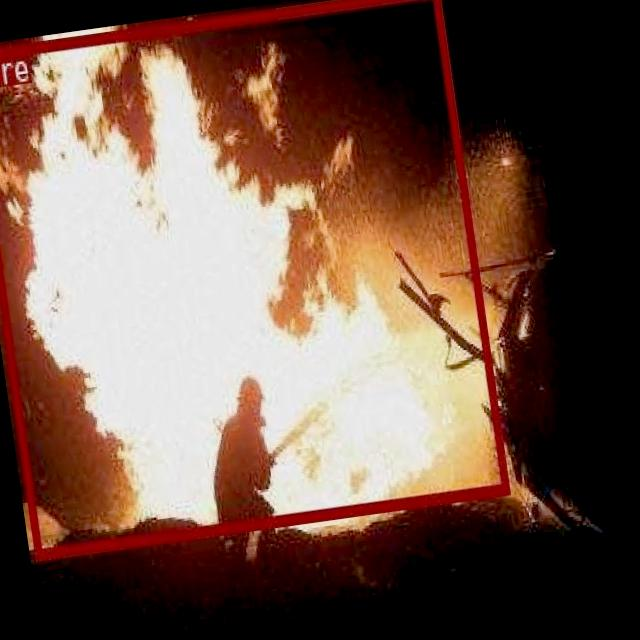fire: (0, 0, 507, 559)
